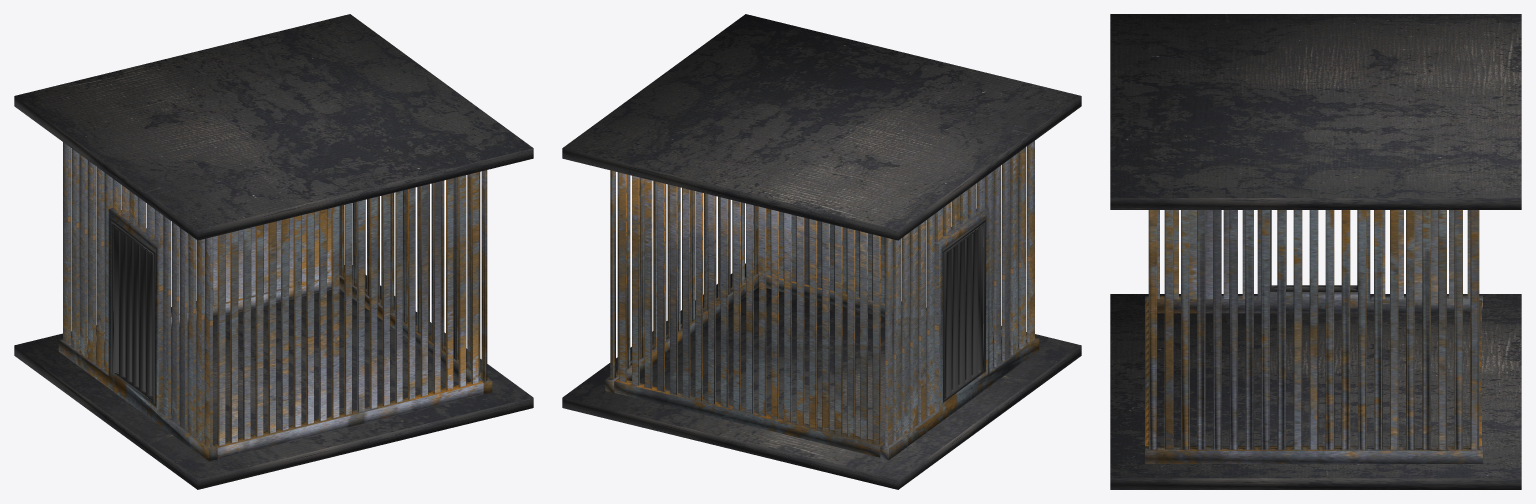
File: cage.glb
3 views of the same model, side by side, from view 1: azimuth 30°, elevation 25°; view 2: azimuth 150°, elevation 25°; view 3: azimuth 270°, elevation 25° (orthographic). The views are drawn at different scales.
Visible parts, largest first — view 1: Object_4, Object_3, Object_2; view 2: Object_4, Object_3, Object_2; view 3: Object_4, Object_3, Object_2.
Part boxes in pixels (x1,y1,x2,y2): Object_4: (14,14,533,489); Object_3: (58,142,492,461); Object_2: (111,219,155,403); Object_4: (562,14,1081,489); Object_3: (605,141,1039,459); Object_2: (943,218,985,402); Object_4: (1110,14,1521,489); Object_3: (1145,210,1482,463); Object_2: (1270,210,1357,291).
Bounding box in the file's own units: 188 × 139 × 178.
Materials: 3 (2 with a texture image).
